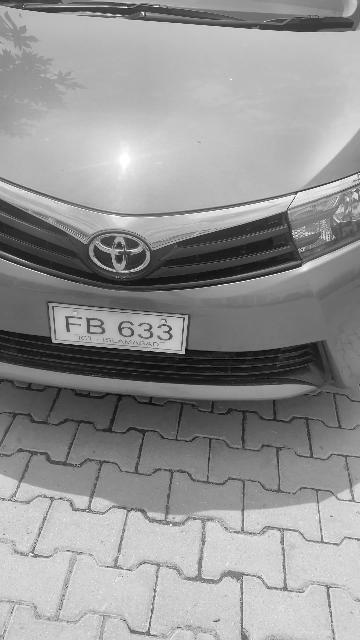Number: (62, 314, 176, 342)
